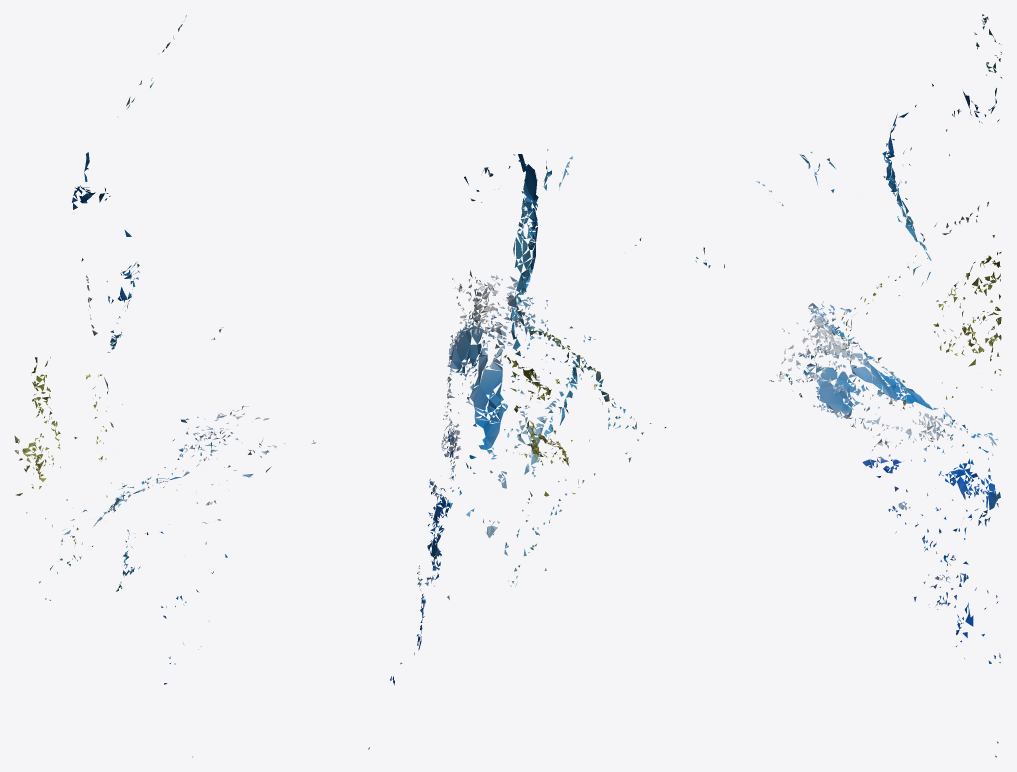
File: hunyuan_scene_001_walkable_nav.glb
3 views of the same model, side by side, from view 1: azimuth 30°, elevation 25°; view 2: azimuth 150°, elevation 25°; view 3: azimuth 270°, elevation 25° (orthographic).
Parts seen in each view (by area): view 1: hunyuan_scene_001_walkable_nav; view 2: hunyuan_scene_001_walkable_nav; view 3: hunyuan_scene_001_walkable_nav.
Boxes of the visible parts, x1,y1,x2,y2 form: hunyuan_scene_001_walkable_nav: [14, 15, 315, 757]; hunyuan_scene_001_walkable_nav: [368, 149, 666, 749]; hunyuan_scene_001_walkable_nav: [695, 14, 1002, 757].
Bounding box in the file's own units: 5.84 × 19.95 × 7.53.
